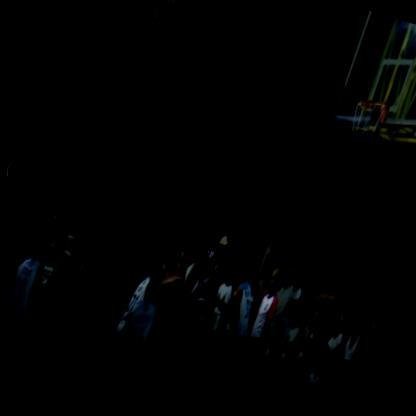basketball: (184, 314, 211, 349)
rim: (333, 95, 390, 176)
